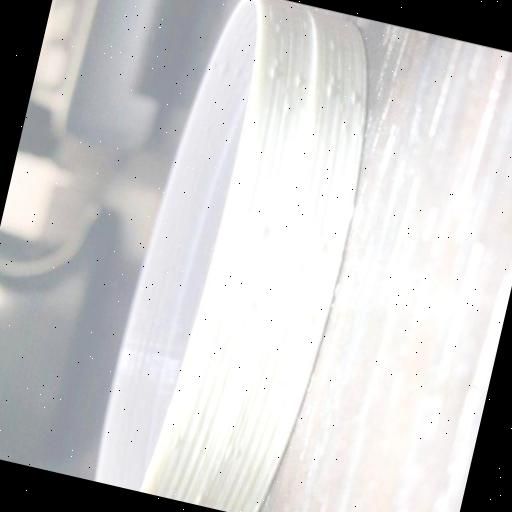blobs: (296, 304, 320, 332), (251, 220, 274, 246), (308, 233, 330, 260), (286, 69, 308, 92), (242, 295, 262, 319), (266, 64, 286, 86), (222, 442, 242, 463), (321, 32, 341, 53), (215, 56, 234, 78), (320, 80, 338, 100), (344, 87, 362, 106), (230, 63, 248, 82), (280, 97, 297, 117), (192, 494, 210, 508)
